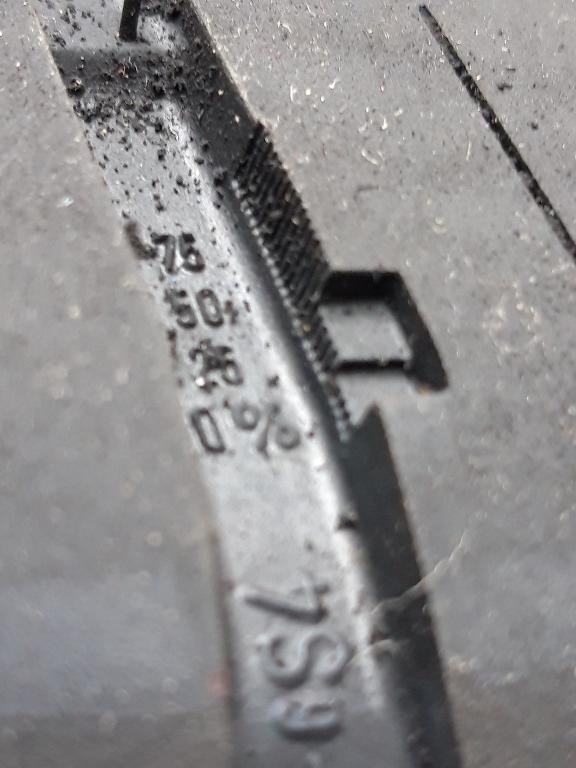temoin:50: (255, 222, 461, 454)
